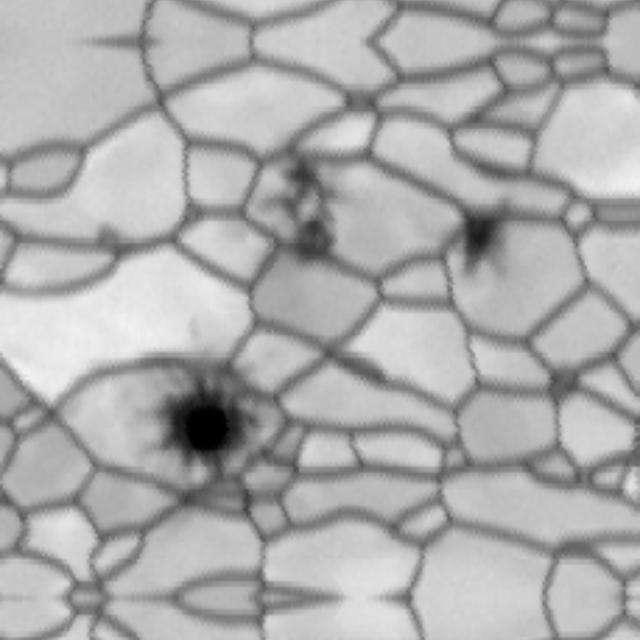good_void: (111, 324, 269, 488), (254, 145, 341, 270), (455, 194, 518, 283), (542, 364, 583, 405), (93, 222, 127, 268)
